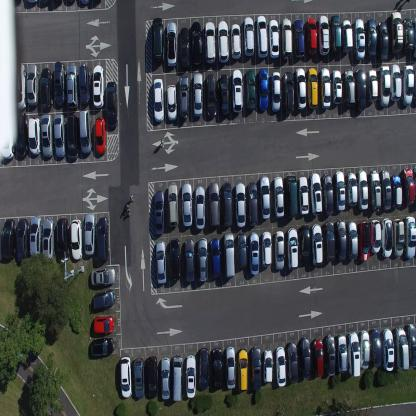car: (14, 110, 28, 158), (0, 116, 15, 160), (394, 326, 409, 370), (78, 108, 92, 154), (207, 182, 220, 231), (52, 60, 66, 105), (56, 216, 70, 260), (2, 218, 17, 259), (381, 327, 394, 372), (152, 18, 165, 63), (223, 232, 235, 280), (14, 62, 26, 110), (16, 218, 30, 259), (53, 114, 66, 158), (40, 113, 53, 157), (70, 217, 83, 261), (255, 14, 268, 58), (83, 212, 96, 255), (309, 172, 322, 215), (181, 182, 193, 228), (184, 238, 196, 284), (106, 81, 118, 127), (66, 114, 78, 160), (192, 72, 204, 118), (209, 238, 222, 280), (368, 170, 381, 212), (357, 220, 370, 262), (390, 11, 403, 53), (167, 183, 179, 228), (197, 238, 209, 283), (92, 63, 104, 108), (66, 63, 78, 108), (97, 216, 109, 261), (348, 331, 360, 376), (286, 173, 298, 218), (178, 74, 190, 119), (231, 68, 243, 113), (29, 215, 42, 256), (401, 64, 414, 105), (401, 167, 415, 205), (235, 181, 246, 229), (258, 175, 270, 219), (211, 346, 223, 390), (250, 344, 261, 392), (286, 226, 298, 270), (204, 20, 216, 64), (217, 20, 229, 64), (205, 74, 217, 118), (257, 68, 269, 112), (293, 16, 305, 60), (354, 68, 366, 112), (282, 71, 294, 115), (247, 180, 258, 227), (40, 68, 52, 111), (120, 355, 132, 398), (43, 217, 55, 260), (146, 355, 158, 398), (298, 336, 310, 379), (218, 74, 230, 117), (237, 347, 248, 393), (153, 77, 164, 123), (133, 357, 145, 399), (311, 224, 323, 266), (335, 219, 347, 261), (404, 216, 416, 258), (353, 18, 365, 60), (90, 336, 115, 356), (222, 182, 233, 227), (155, 240, 166, 285), (166, 21, 177, 66), (345, 170, 358, 208), (342, 68, 355, 106), (274, 346, 286, 387), (334, 170, 346, 211), (323, 221, 335, 262), (244, 69, 256, 110), (377, 20, 389, 61), (169, 237, 180, 281), (225, 345, 236, 389), (179, 26, 190, 70), (295, 66, 306, 110), (92, 289, 115, 310), (389, 63, 402, 100), (94, 116, 106, 156), (79, 64, 91, 104), (365, 18, 377, 58), (27, 63, 38, 106), (160, 357, 171, 400), (273, 175, 284, 218), (322, 173, 333, 216), (299, 224, 310, 267), (379, 64, 390, 107), (307, 67, 318, 110), (270, 70, 281, 113), (336, 333, 348, 372), (392, 218, 404, 257), (287, 342, 298, 384), (324, 334, 335, 376), (318, 14, 329, 56), (320, 67, 331, 109), (92, 314, 115, 334), (230, 22, 242, 60), (243, 16, 254, 57), (281, 17, 292, 58), (154, 190, 164, 235), (195, 185, 205, 230), (172, 356, 182, 401), (191, 21, 201, 66), (250, 232, 260, 276), (29, 116, 40, 156), (186, 354, 196, 398), (312, 338, 323, 378), (347, 220, 358, 260), (268, 18, 279, 58), (330, 14, 341, 54), (91, 268, 115, 286), (331, 68, 343, 104), (198, 347, 208, 390), (381, 168, 391, 211), (370, 329, 381, 368), (306, 17, 317, 56), (370, 219, 382, 254), (360, 329, 370, 370), (358, 169, 368, 210), (166, 83, 177, 120), (406, 322, 415, 367), (274, 231, 284, 271), (238, 232, 248, 271), (382, 218, 392, 257), (341, 19, 353, 51), (262, 230, 272, 268), (298, 176, 308, 214), (263, 347, 273, 384), (392, 172, 402, 208), (403, 17, 413, 52), (368, 68, 378, 101), (412, 166, 416, 205), (413, 17, 416, 58), (413, 66, 416, 104), (38, 0, 50, 6), (25, 0, 38, 5), (79, 0, 90, 5)
